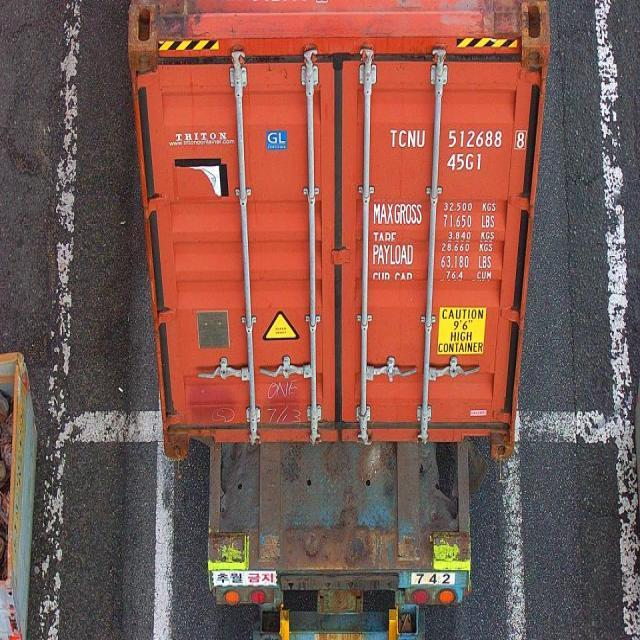ISO: (444, 152, 486, 172)
container_number: (392, 125, 524, 148)
